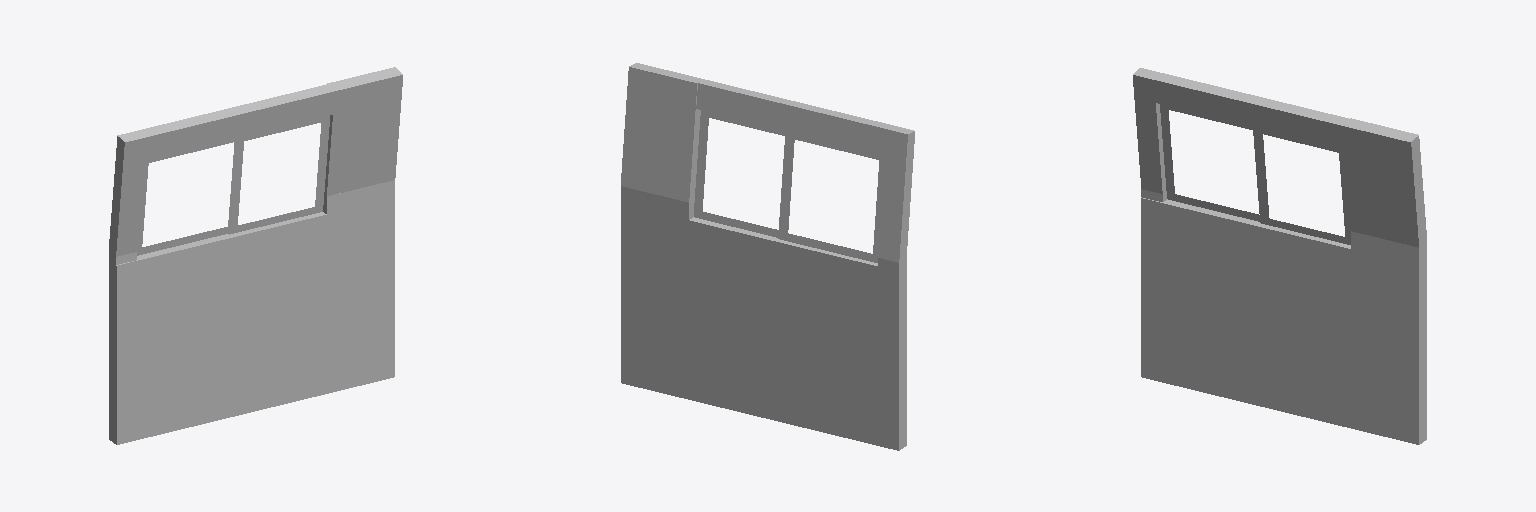
File: df5_head_panel.obj
The picture shows the model from 3 angles: view 1: azimuth 30°, elevation 25°; view 2: azimuth 150°, elevation 25°; view 3: azimuth 330°, elevation 25°; orthographic projection.
Parts seen in each view (by area): view 1: cube; view 2: cube; view 3: cube.
Boxes of the visible parts, x1=… form: cube: x1=109, y1=67, x2=402, y2=444; cube: x1=621, y1=63, x2=914, y2=450; cube: x1=1133, y1=68, x2=1426, y2=444.
Size of the model in its own units: 2.03 by 2.16 by 0.205.